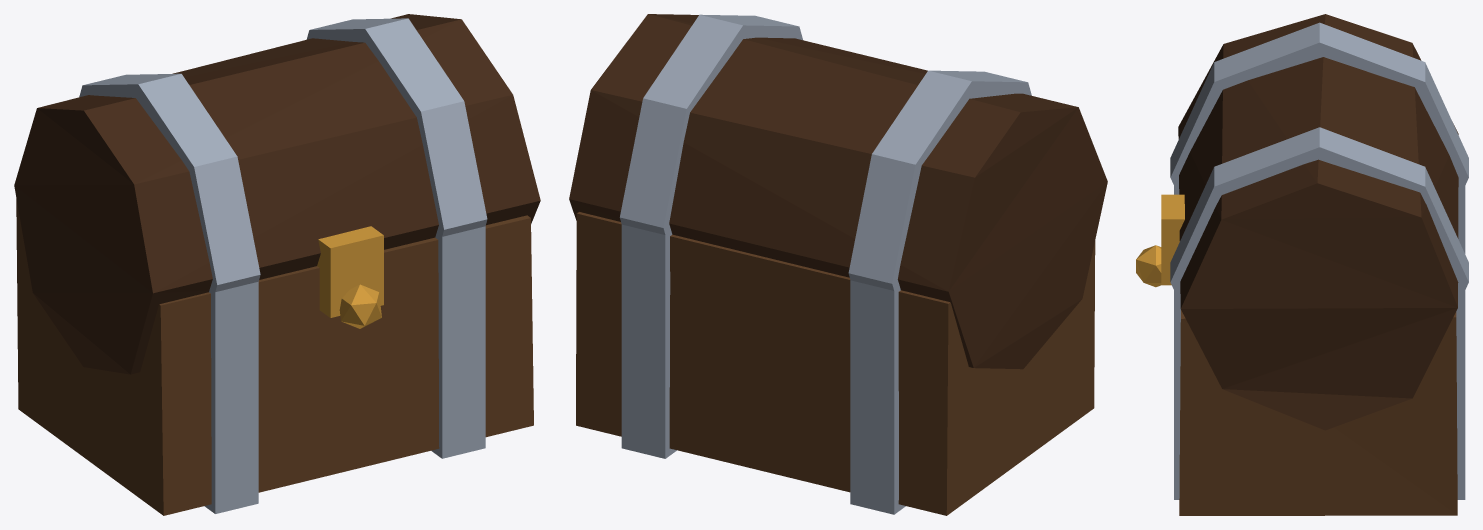
The model's file is Chest.obj.
The picture shows the model from 3 angles, left to right: view 1: azimuth 30°, elevation 25°; view 2: azimuth 150°, elevation 25°; view 3: azimuth 270°, elevation 25°; orthographic projection. The views are drawn at different scales.
Parts seen in each view (by area): view 1: Chest; view 2: Chest; view 3: Chest.
Boxes of the visible parts, x1,y1,x2,y2 form: Chest: [14, 14, 540, 515]; Chest: [569, 14, 1107, 515]; Chest: [1136, 14, 1468, 515].
Bounding box in the file's own units: 2.05 × 1.87 × 1.6.
